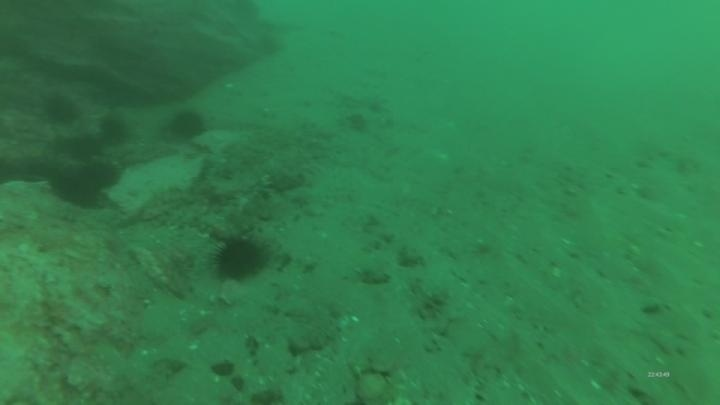echinus: (210, 233, 270, 284), (49, 164, 105, 210), (164, 107, 209, 144), (78, 157, 122, 194), (40, 91, 82, 128), (96, 113, 131, 147), (67, 132, 104, 164), (365, 87, 393, 110), (343, 113, 371, 134)
